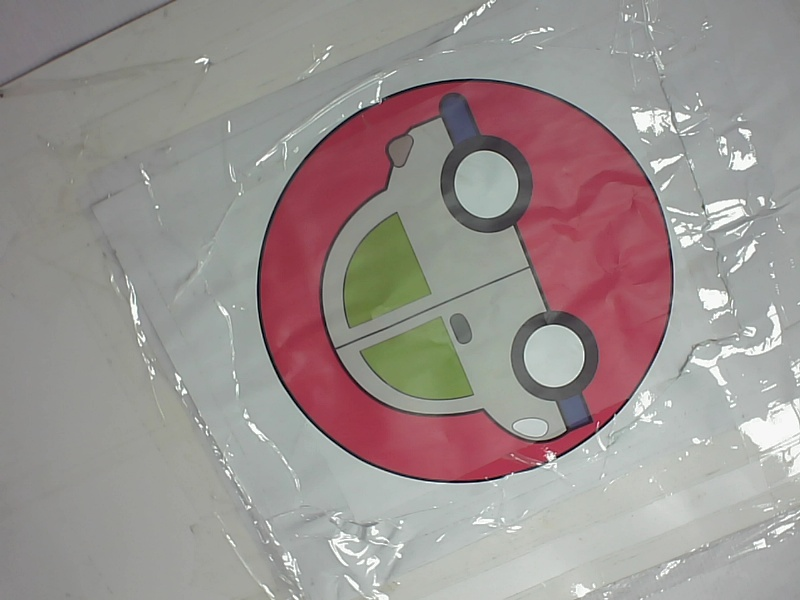areaC: (236, 71, 701, 492)
